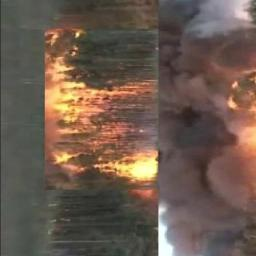Heavy smoke: (158, 1, 253, 249)
Large fire: (45, 26, 158, 198)
